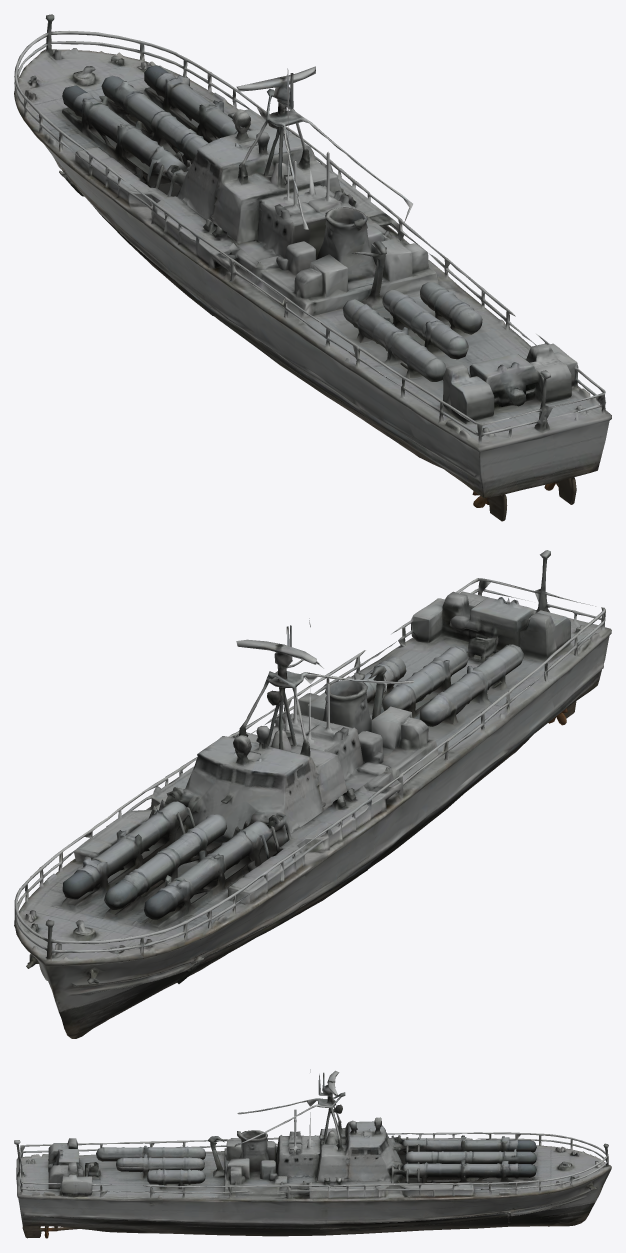
The model's file is prop_eboat.glb.
3 views of the same model, one above another, from view 1: azimuth 30°, elevation 25°; view 2: azimuth 150°, elevation 25°; view 3: azimuth 270°, elevation 25° (orthographic). The views are drawn at different scales.
Parts seen in each view (by area): view 1: tripo_node_9d15062d-1cdb-4244-a691-a5a06b5dd27a; view 2: tripo_node_9d15062d-1cdb-4244-a691-a5a06b5dd27a; view 3: tripo_node_9d15062d-1cdb-4244-a691-a5a06b5dd27a.
Boxes of the visible parts, x1=… form: tripo_node_9d15062d-1cdb-4244-a691-a5a06b5dd27a: x1=14, y1=14, x2=611, y2=521; tripo_node_9d15062d-1cdb-4244-a691-a5a06b5dd27a: x1=14, y1=550, x2=611, y2=1038; tripo_node_9d15062d-1cdb-4244-a691-a5a06b5dd27a: x1=14, y1=1069, x2=611, y2=1238.
Bounding box in the file's own units: 0.2129 × 0.2906 × 1.
Materials: 1 (1 with a texture image).
